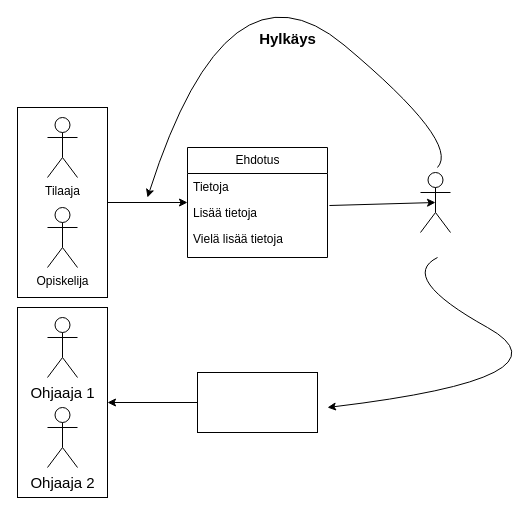
This 530x516 diagram has some shape labels left out. The centre of each missing label's shape, as x and y in pixels:
Hyväksyntä: point 257,402
Koulutusvastaava: point 435,202
